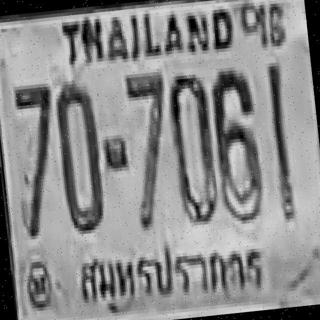N00: (52, 79, 106, 232), (165, 70, 218, 224)
N01: (265, 61, 294, 218)
N06: (208, 65, 264, 222)
N07: (122, 68, 176, 228), (11, 80, 64, 236)
P57: (73, 227, 276, 320)
